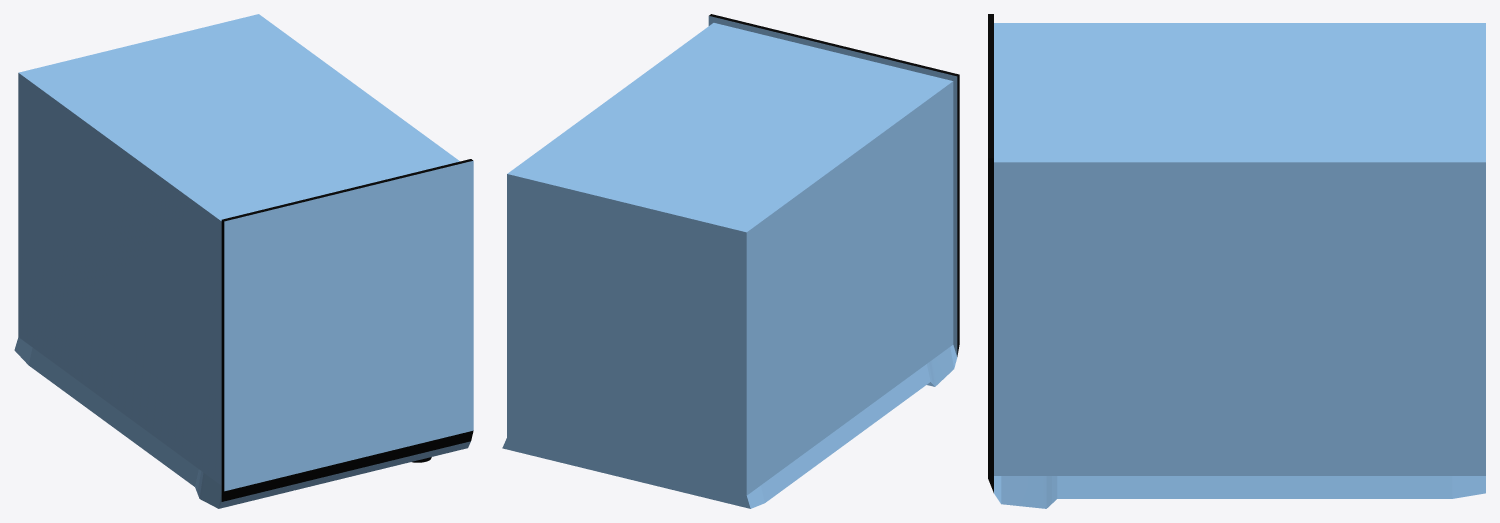
File: Washing Machine.fbx
3 views of the same model, side by side, from view 1: azimuth 30°, elevation 25°; view 2: azimuth 150°, elevation 25°; view 3: azimuth 270°, elevation 25° (orthographic). The views are drawn at different scales.
Parts seen in each view (by area): view 1: Cylinder.001; view 2: Cylinder.001; view 3: Cylinder.001.
Part boxes in pixels (box(x1,y1,x2,y2)): Cylinder.001: box(14, 14, 473, 508); Cylinder.001: box(502, 14, 959, 508); Cylinder.001: box(988, 14, 1485, 508).
Bounding box in the file's own units: 122 × 140 × 178.
